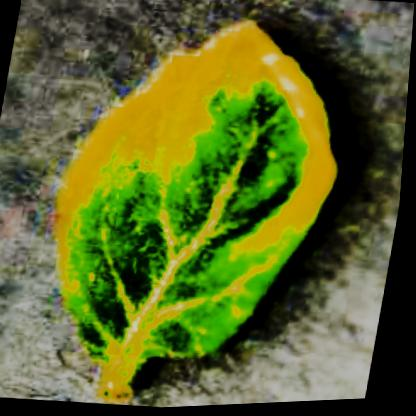Virus: (16, 0, 381, 414)
